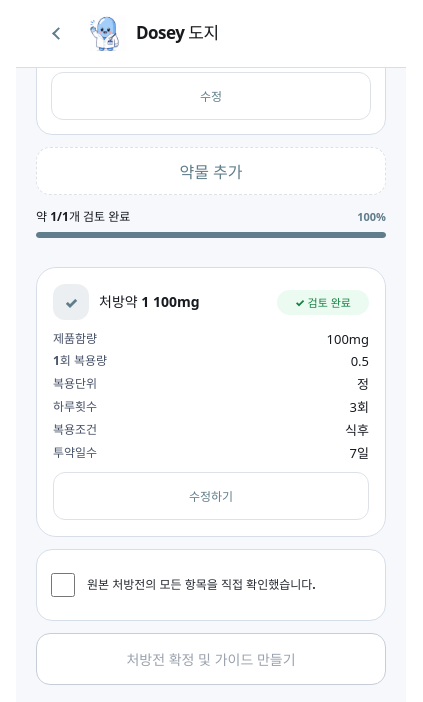
Scenario: PrescriptionReviewPage confirmation gate › STATE-02 수정 진입 즉시 약 검토 완료와 원본 확인을 해제한다
(page scrolled)
Click the checkbox at {"x": 63, "y": 585}, box [51,573,75,597]
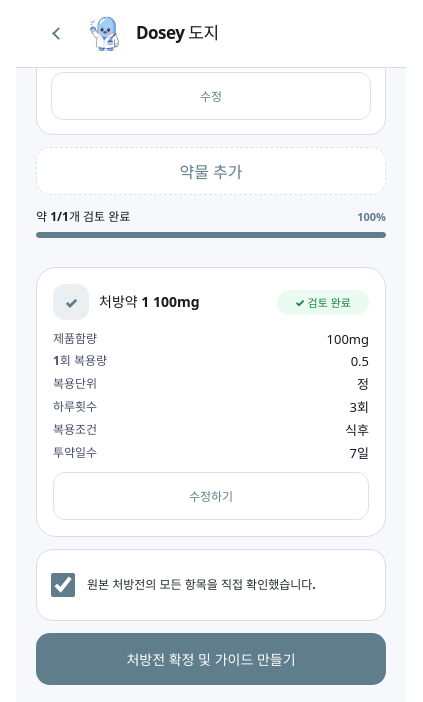
Expected: the button "처방전 확정 및 가이드 만들기" is enabled, [36,633,386,685]
Click the button "수정하기" at {"x": 211, "y": 496}, box [53,472,369,520]
(page scrolled)
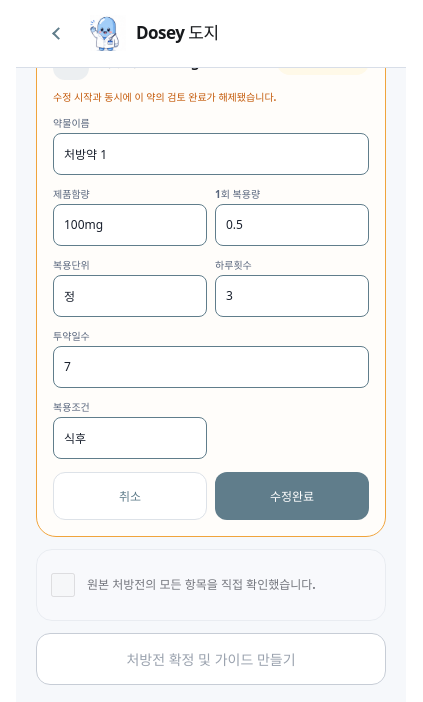
Expected: the checkbox is not checked, [51,572,75,596]
Expected: the text "수정 시작과 동시에 이 약의 검토 완료가 해제됐습니다." is shown, [53,90,276,104]
Expected: the checkbox is disabled, [51,572,75,596]
Click the button "취소" at {"x": 130, "y": 496}, box [53,472,207,520]
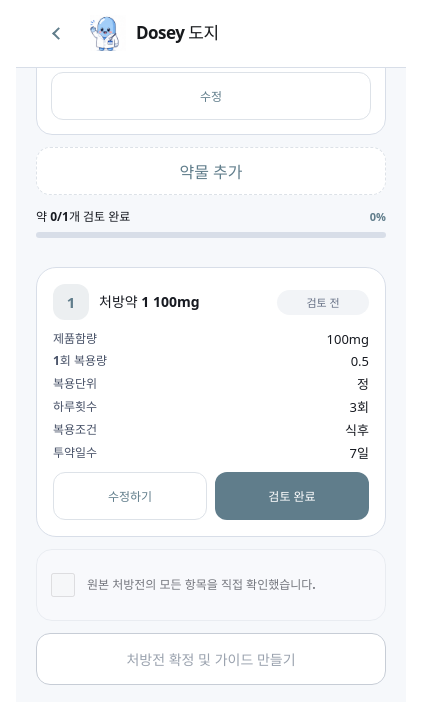
Expected: the checkbox is disabled, [51,573,75,597]
Expected: the text "약 0/1개 검토 완료" is shown, [36,207,130,225]
Expected: the button "검토 완료" is shown, [215,472,369,520]
